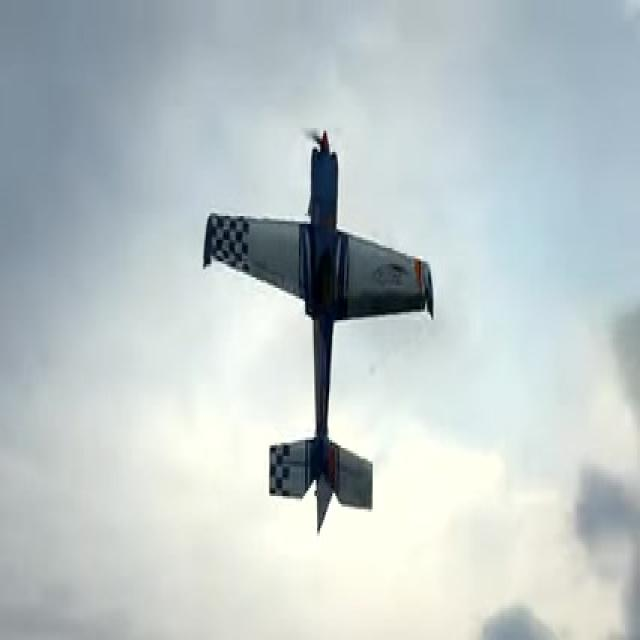iha: (199, 126, 436, 540)
